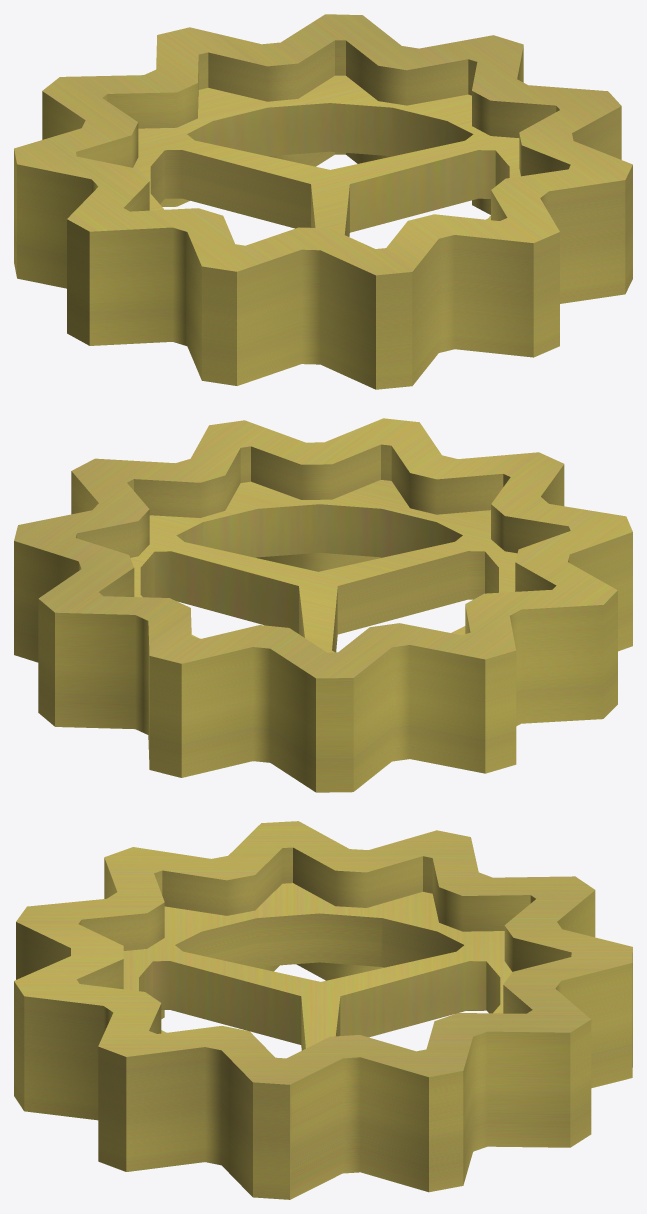
File: CogFacet3Spoke011.fbx
3 renders of one model, top to bottom at view 1: azimuth 30°, elevation 25°; view 2: azimuth 150°, elevation 25°; view 3: azimuth 270°, elevation 25°, orthographic.
Parts seen in each view (by area): view 1: CogFacet3Spoke011; view 2: CogFacet3Spoke011; view 3: CogFacet3Spoke011.
Part boxes in pixels (box(x1,y1,x2,y2)): CogFacet3Spoke011: box(14, 14, 632, 389); CogFacet3Spoke011: box(14, 418, 632, 792); CogFacet3Spoke011: box(14, 821, 632, 1199).
Bounding box in the file's own units: 107 × 21.75 × 106.
